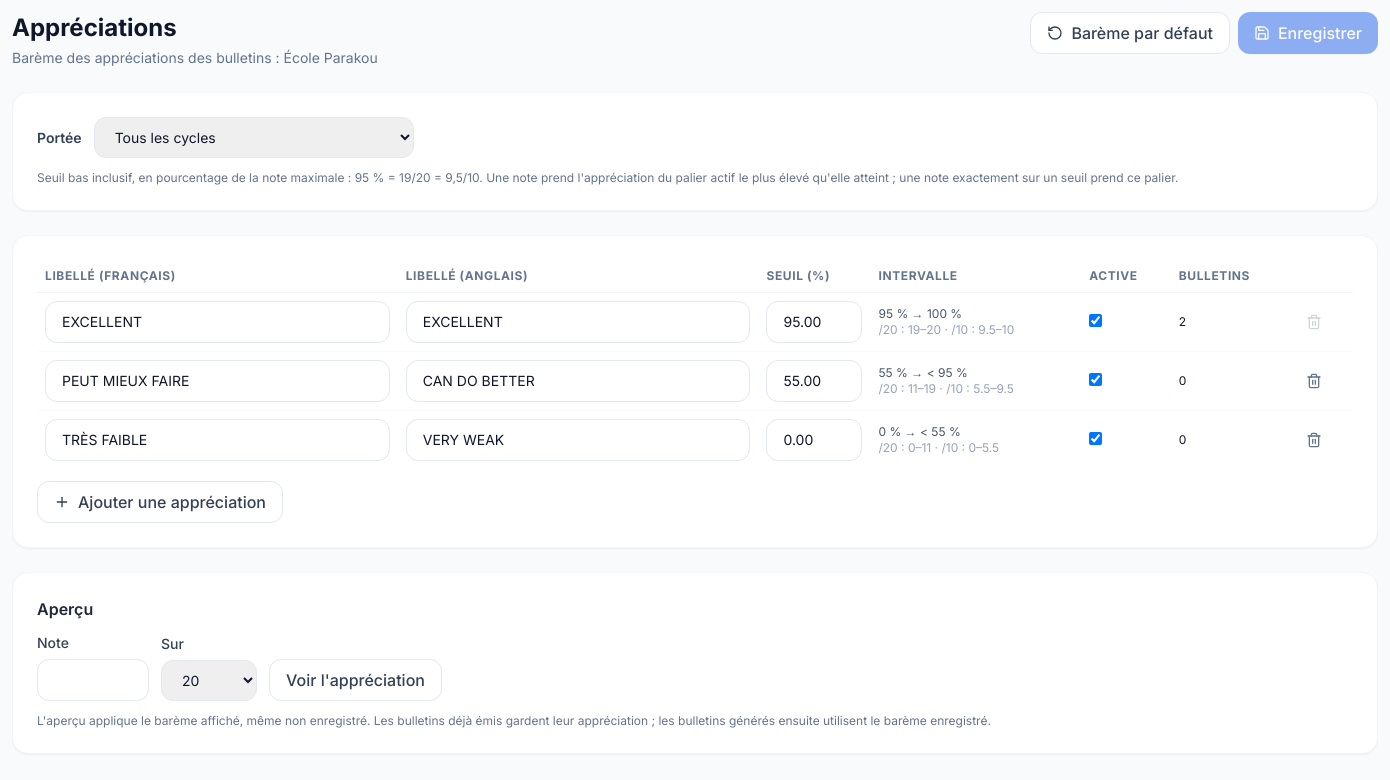
it: écran › aperçu d'une note avec le barème affiché
This screenshot has width=1390, height=780.
Expected: the table with test id "appreciations-table" is shown, [37,260,1353,469]
Type "9.5" into the number field with test id "appreciations-preview-value".
click(93, 680); type("9.5")  # box [37,659,149,701]
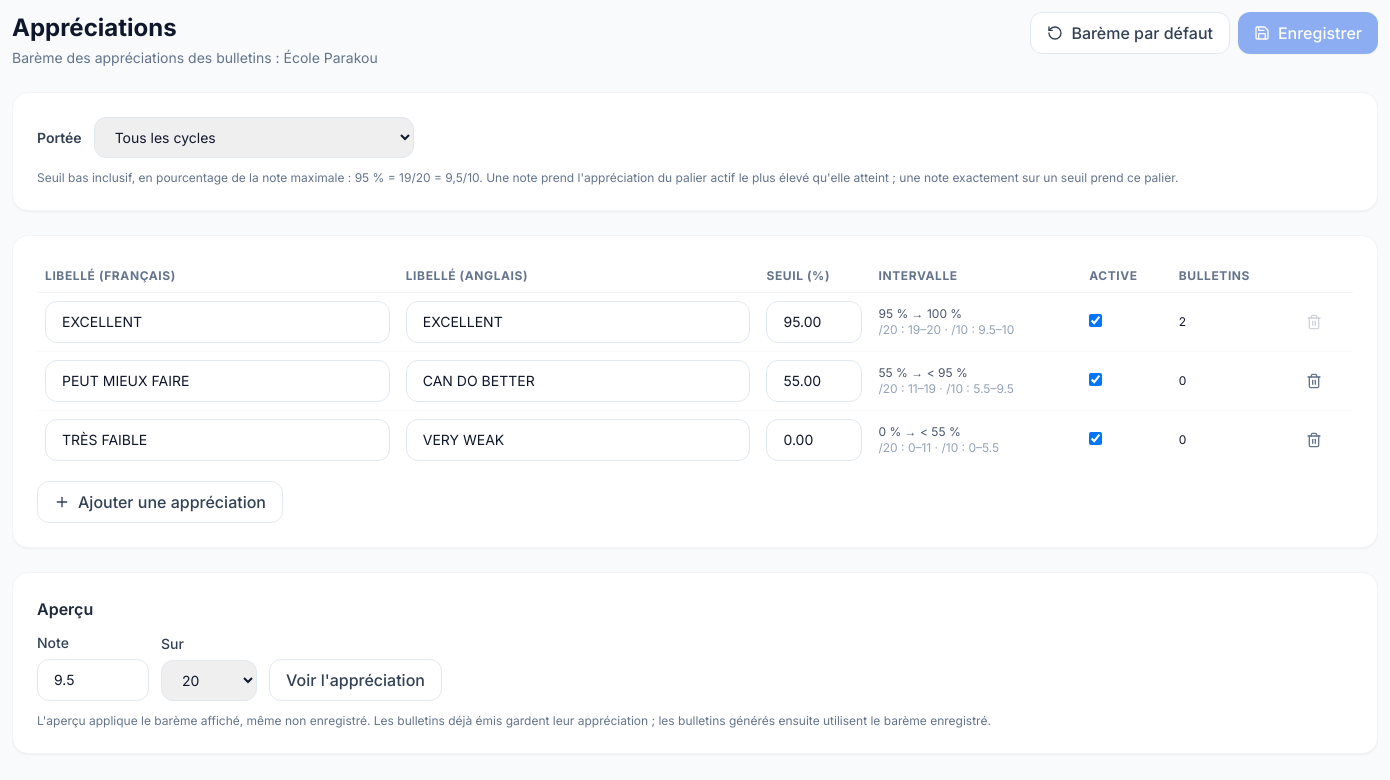
Select "10" in the dropdown showing "20" at coordinates (209, 680), box [161,660,257,701]
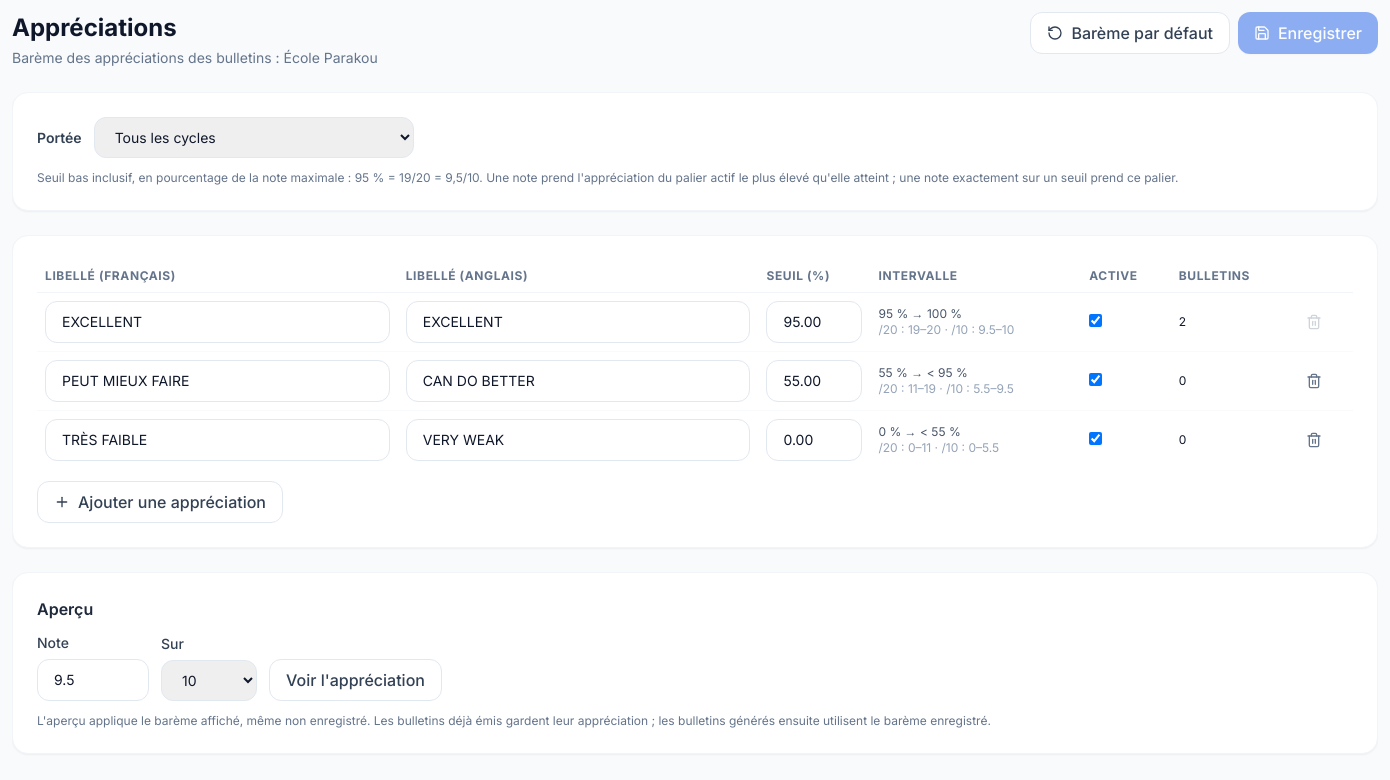
Click the button with test id "appreciations-preview".
click(355, 680)  # box [269,659,442,701]
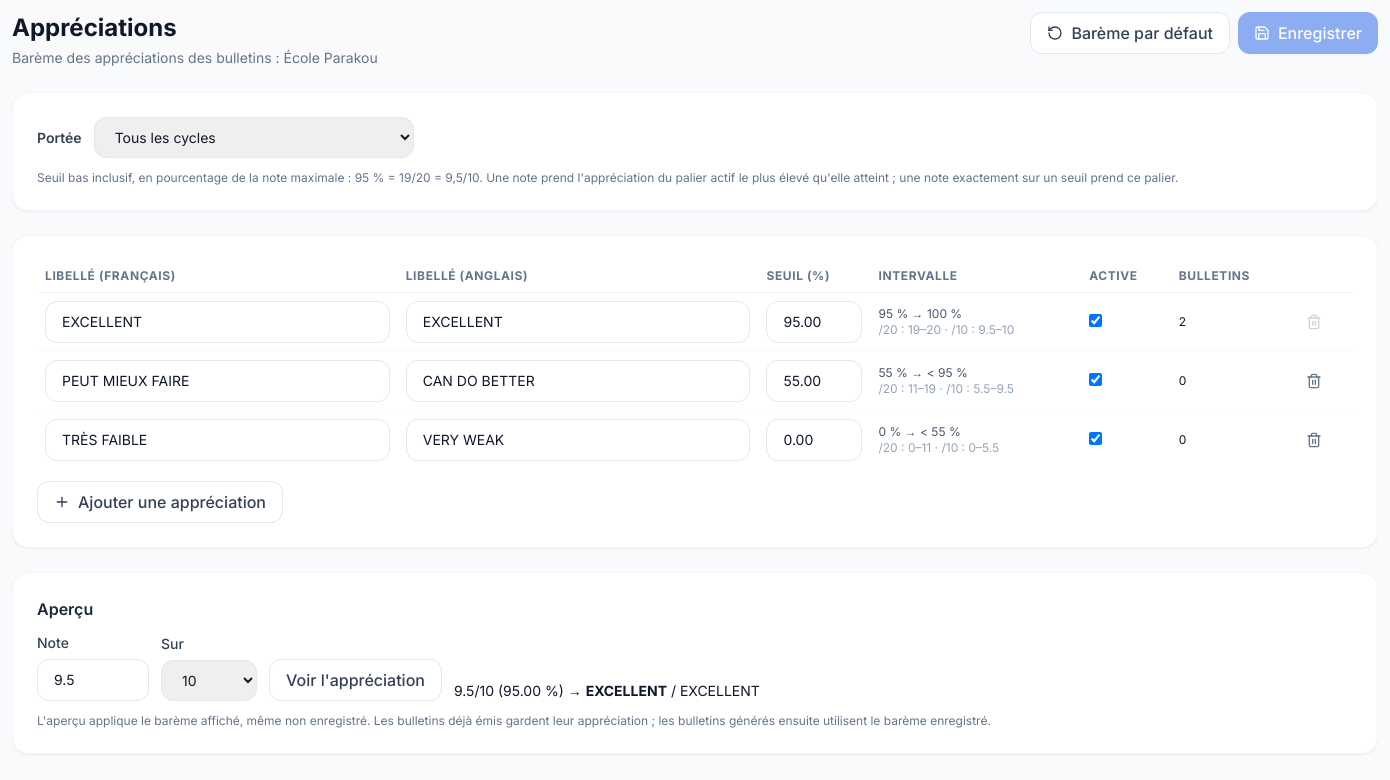
Now the element with test id "appreciations-preview-result" shows "EXCELLENT", box [586,682,667,699]
